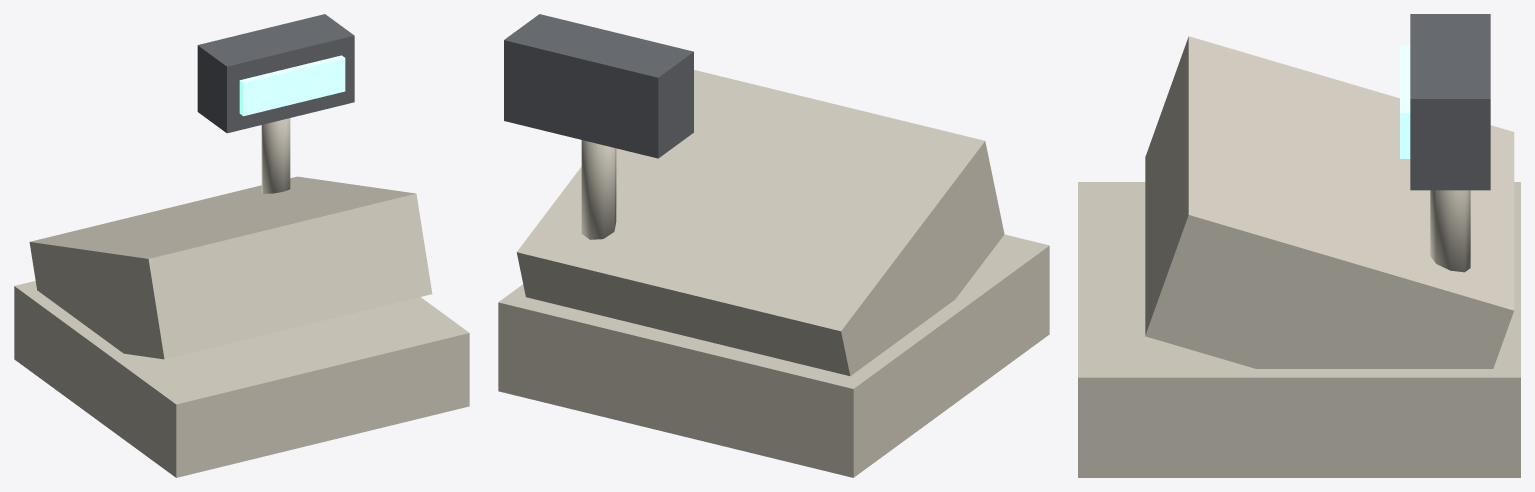
The model's file is cash_register_90s.glb.
3 renders of one model, left to right at view 1: azimuth 30°, elevation 25°; view 2: azimuth 150°, elevation 25°; view 3: azimuth 270°, elevation 25°, orthographic. The views are drawn at different scales.
Parts seen in each view (by area): view 1: KeyboardDeck, CashDrawer, DisplayHead, VFDWindow, DisplayPost; view 2: KeyboardDeck, CashDrawer, DisplayHead, DisplayPost; view 3: KeyboardDeck, CashDrawer, DisplayHead, DisplayPost, VFDWindow.
Boxes of the visible parts, x1,y1,x2,y2 form: KeyboardDeck: [29, 176, 432, 359]; CashDrawer: [14, 281, 469, 477]; DisplayHead: [197, 14, 354, 133]; VFDWindow: [239, 55, 345, 116]; DisplayPost: [261, 118, 290, 193]; KeyboardDeck: [516, 70, 1004, 376]; CashDrawer: [498, 234, 1049, 477]; DisplayHead: [504, 14, 693, 158]; DisplayPost: [581, 140, 616, 239]; KeyboardDeck: [1145, 36, 1514, 368]; CashDrawer: [1078, 182, 1520, 477]; DisplayHead: [1410, 14, 1490, 190]; DisplayPost: [1430, 190, 1470, 272]; VFDWindow: [1400, 45, 1410, 158].
Bounding box in the file's own units: 0.47 × 0.42 × 0.44.
